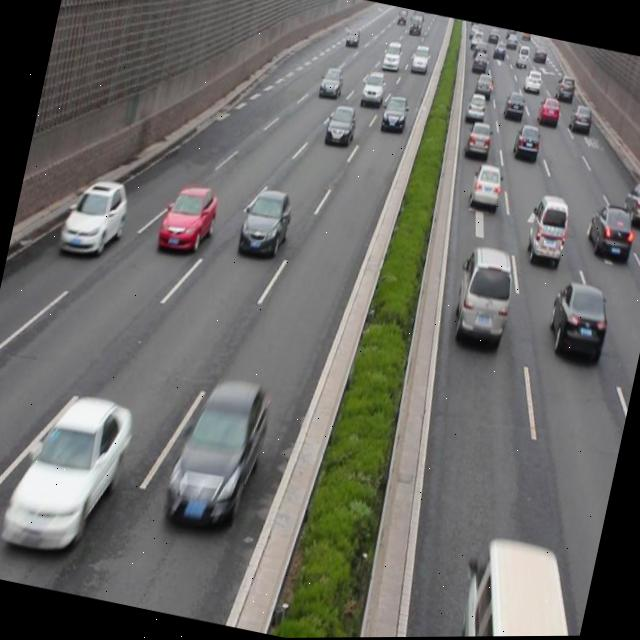car: (0, 380, 136, 561), (160, 365, 276, 530), (57, 173, 132, 261), (541, 274, 613, 364), (156, 180, 220, 258), (235, 182, 294, 262), (582, 199, 636, 268), (322, 101, 359, 151), (467, 162, 504, 211), (379, 93, 411, 135), (462, 119, 494, 160), (511, 120, 542, 162), (617, 180, 640, 234), (358, 68, 386, 107), (318, 63, 344, 98), (464, 91, 487, 124)
truck: (452, 530, 597, 637), (445, 243, 517, 346), (523, 193, 572, 267)
